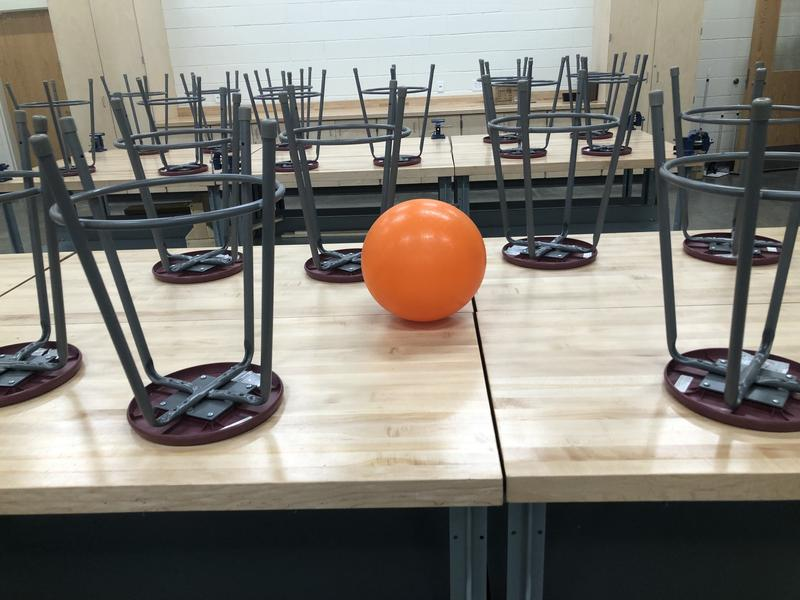ball: (363, 198, 488, 325)
